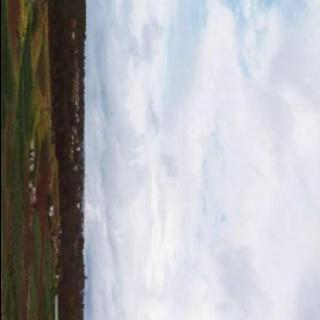Cirrostratus: (93, 0, 320, 320)
